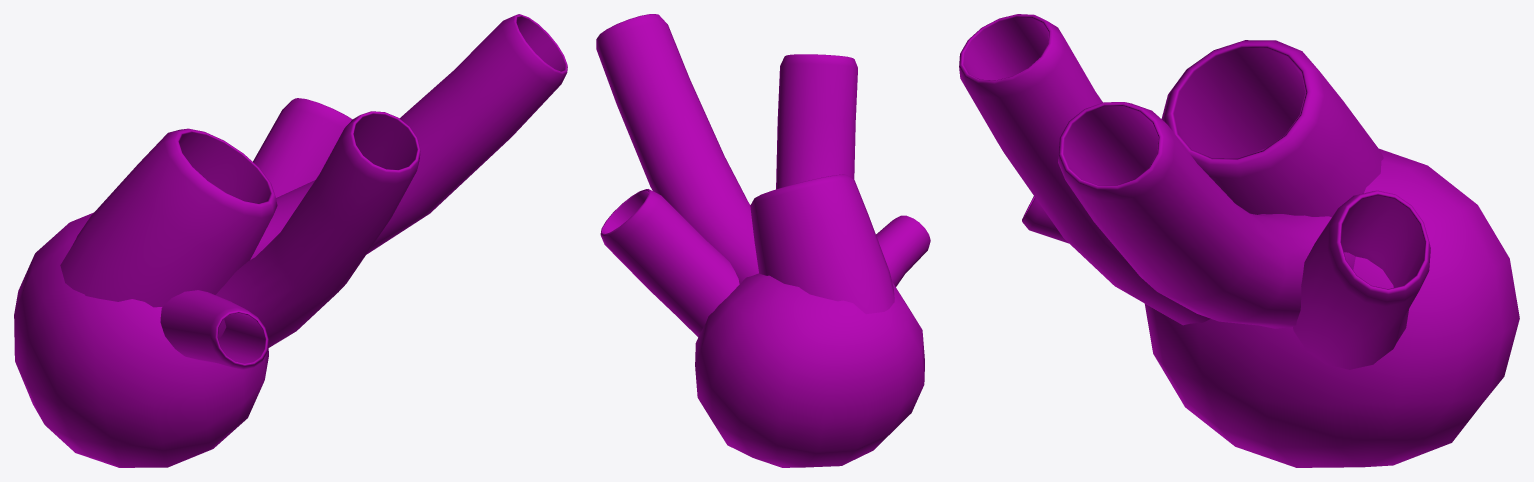
Rendered from Coral_Tube.fbx.
3 views of the same model, side by side, from view 1: azimuth 30°, elevation 25°; view 2: azimuth 150°, elevation 25°; view 3: azimuth 270°, elevation 25° (orthographic). The views are drawn at different scales.
Visible parts, largest first — view 1: Coral_Tube_Base, Coral_Tube4, Coral_Tube2, Coral_Tube1, Coral_Tube3, Coral_Tube; view 2: Coral_Tube_Base, Coral_Tube1, Coral_Tube4, Coral_Tube, Coral_Tube2, Coral_Tube3; view 3: Coral_Tube_Base, Coral_Tube1, Coral_Tube4, Coral_Tube2, Coral_Tube, Coral_Tube3.
Boxes of the visible parts, x1,y1,x2,y2 form: Coral_Tube_Base: (14,212,268,467); Coral_Tube4: (60,128,277,307); Coral_Tube2: (216,111,420,348); Coral_Tube1: (250,14,567,259); Coral_Tube3: (160,290,268,369); Coral_Tube: (253,98,352,197); Coral_Tube_Base: (695,273,924,467); Coral_Tube1: (596,14,758,283); Coral_Tube4: (750,174,894,314); Coral_Tube: (600,189,739,336); Coral_Tube2: (776,54,857,189); Coral_Tube3: (876,215,930,286); Coral_Tube_Base: (1145,148,1519,467); Coral_Tube1: (1058,102,1355,328); Coral_Tube4: (1161,40,1383,217); Coral_Tube2: (959,14,1210,325); Coral_Tube: (1293,190,1430,369); Coral_Tube3: (1022,196,1068,243).
Bounding box in the file's own units: 36.64 × 32.24 × 30.79.
